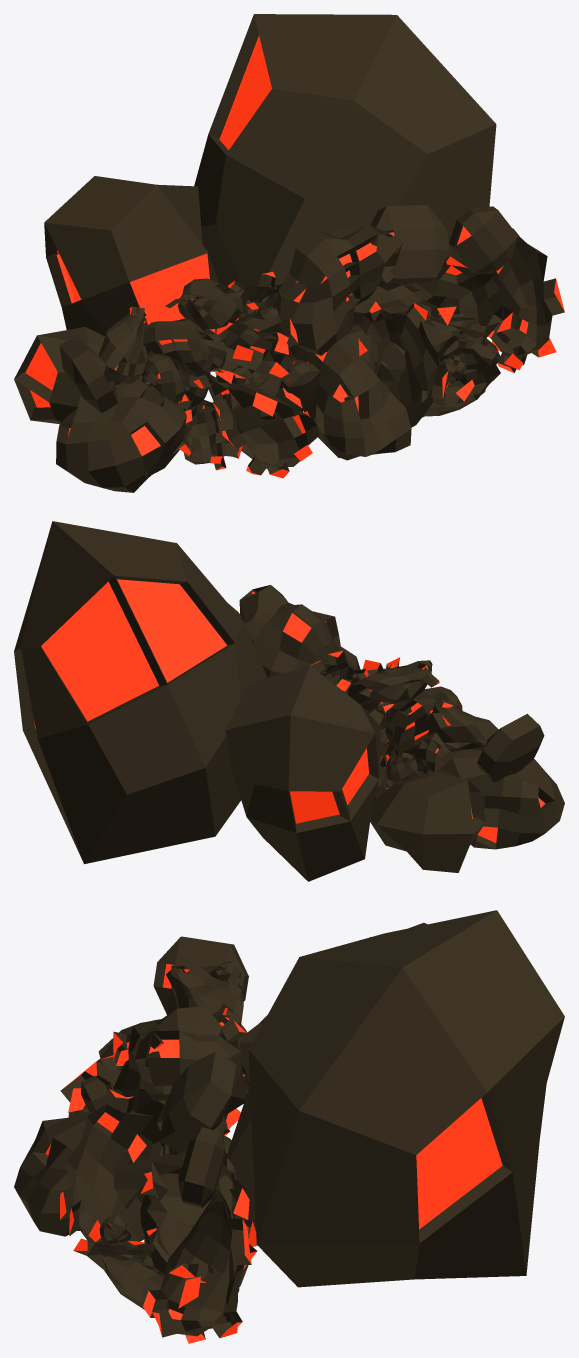
The model's file is Boulder.fbx.
The picture shows the model from 3 angles, top to bottom: view 1: azimuth 30°, elevation 25°; view 2: azimuth 150°, elevation 25°; view 3: azimuth 270°, elevation 25°; orthographic projection. The views are drawn at different scales.
Visible parts, largest first — view 1: Boulder; view 2: Boulder; view 3: Boulder.
Boxes of the visible parts, x1,y1,x2,y2 form: Boulder: (14, 14, 564, 492); Boulder: (14, 521, 564, 881); Boulder: (14, 910, 564, 1343).
Size of the model in its own units: 774 by 454 by 611.
